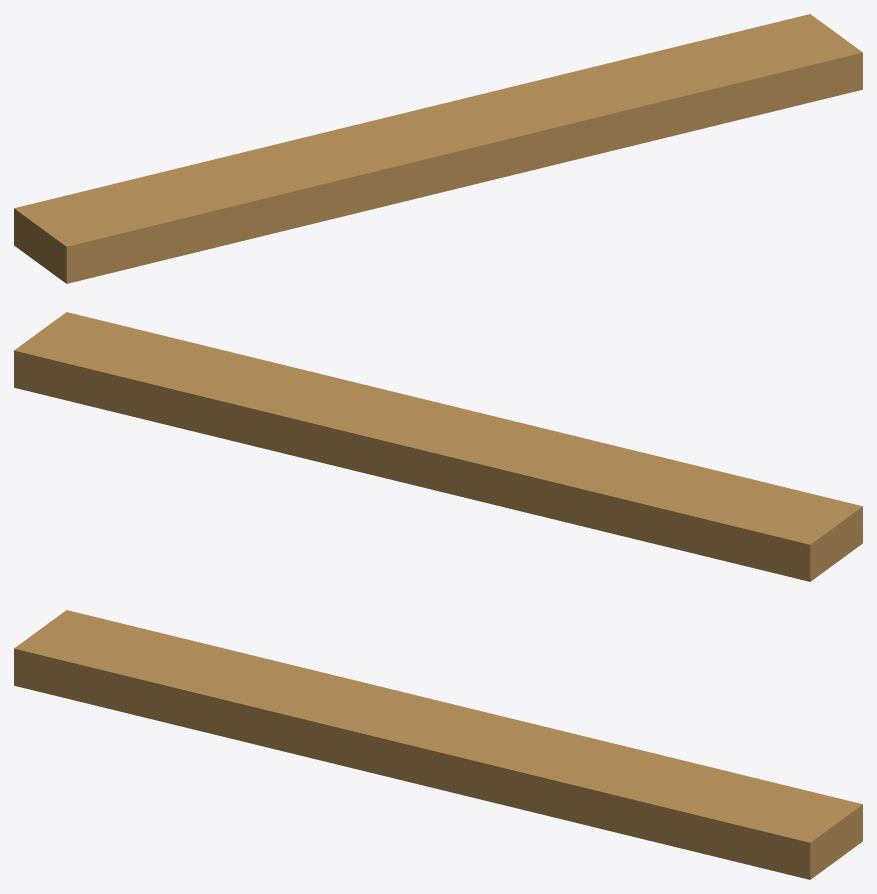
The picture shows the model from 3 angles, top to bottom: view 1: azimuth 30°, elevation 25°; view 2: azimuth 150°, elevation 25°; view 3: azimuth 330°, elevation 25°; orthographic projection.
Visible parts, largest first — view 1: RUN-042-S00-ribbon; view 2: RUN-042-S00-ribbon; view 3: RUN-042-S00-ribbon.
Part boxes in pixels (x1=…): RUN-042-S00-ribbon: x1=14, y1=14, x2=862, y2=283; RUN-042-S00-ribbon: x1=14, y1=312, x2=862, y2=581; RUN-042-S00-ribbon: x1=14, y1=610, x2=862, y2=879.
Size of the model in its own units: 0.7855 by 0.035 by 0.09.
